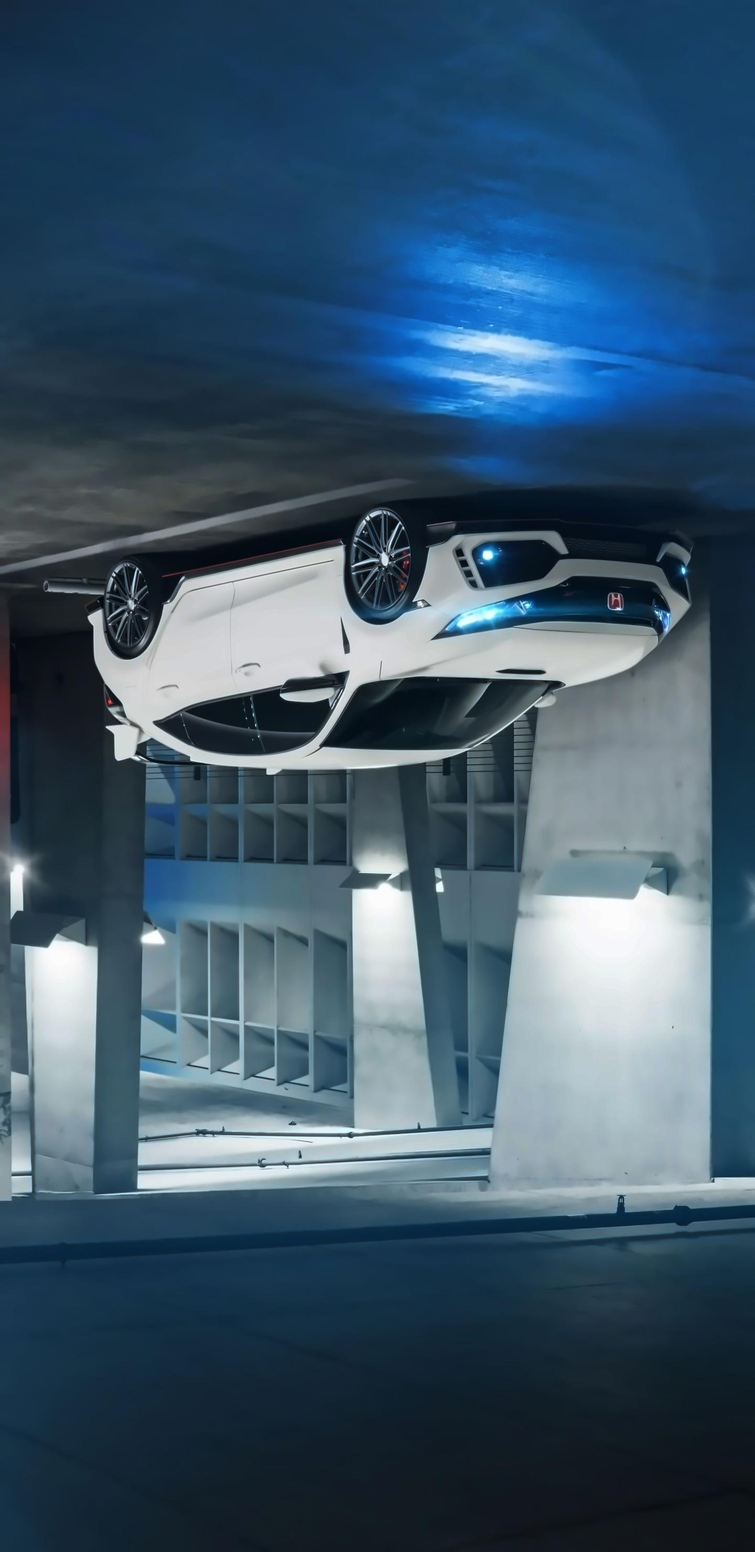Car hood: (377, 618, 662, 696)
Fender - -F-L-: (331, 538, 437, 704)
Fender - -R-L-: (94, 581, 182, 745)
Front bumper: (408, 521, 696, 627)
Headlight - -L-: (425, 596, 542, 640)
Headlight - -R-: (654, 600, 673, 645)
Passenger-s door - -F-L-: (225, 534, 347, 781)
Passenger-s door - -R-L-: (137, 552, 252, 775)
Side bumper - -L-: (156, 528, 349, 611)
Side mirror - -L-: (281, 676, 344, 704)
